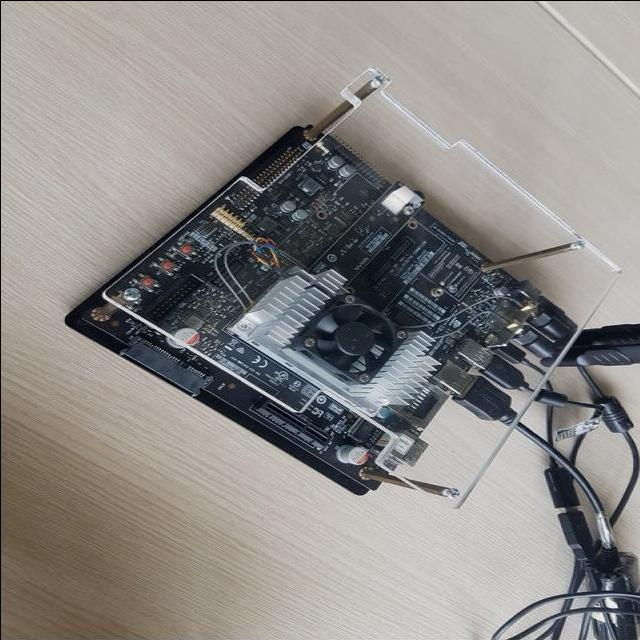Jetson TX2: (67, 129, 576, 490), (560, 325, 640, 367)
